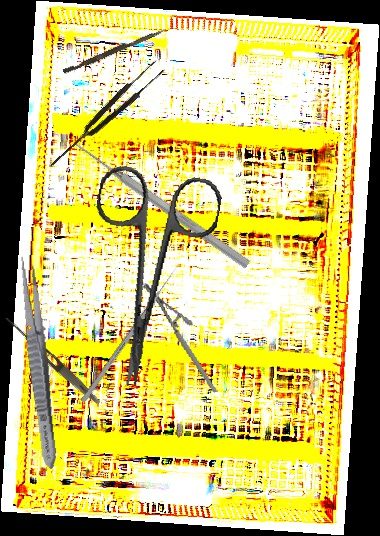Dressing Forceps: (13, 254, 63, 472), (0, 313, 104, 408)
Iris Scissors: (66, 161, 225, 397)
Needle Holder: (141, 272, 218, 404)
Pusher: (71, 137, 252, 271), (80, 262, 182, 404), (62, 24, 167, 77)
Tissue Forceps: (42, 58, 168, 173)
